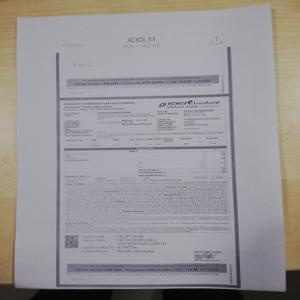image: (155, 99, 223, 109)
table: (63, 147, 227, 181), (62, 129, 225, 146)
text: (66, 179, 229, 232), (62, 99, 152, 126)
